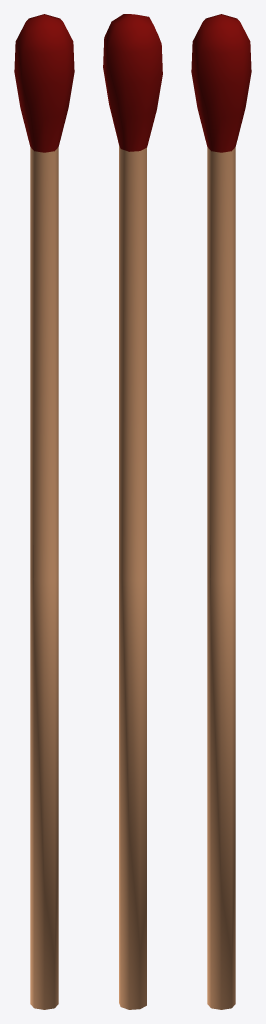
The model's file is match.fbx.
3 views of the same model, side by side, from view 1: azimuth 90°, elevation 25°; view 2: azimuth 210°, elevation 25°; view 3: azimuth 270°, elevation 25° (orthographic).
Parts seen in each view (by area): view 1: match; view 2: match; view 3: match.
Part boxes in pixels (bbox=[...]): match: bbox=[14, 14, 74, 1009]; match: bbox=[103, 14, 162, 1009]; match: bbox=[191, 14, 251, 1009].
Size of the model in its own units: 12.73 by 231 by 12.73.
